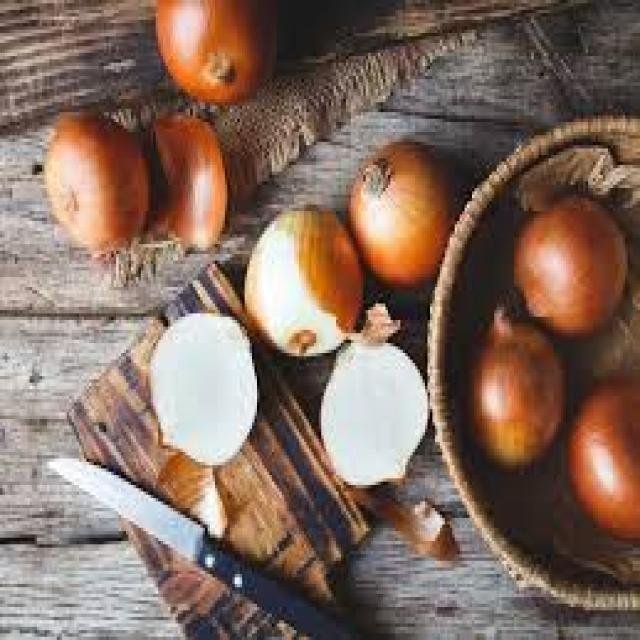Onion: (243, 185, 380, 367), (299, 324, 438, 496), (142, 306, 264, 498), (329, 118, 463, 279), (464, 300, 566, 479), (507, 182, 615, 348), (130, 0, 262, 130), (30, 102, 133, 246)
